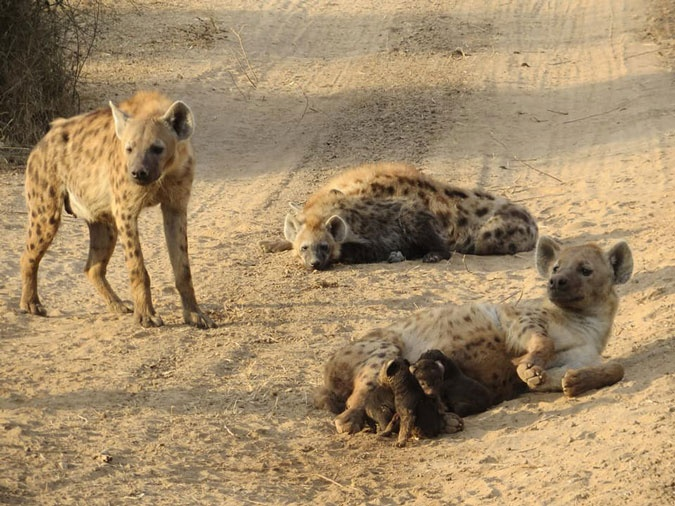hyna: (300, 231, 638, 438), (15, 87, 221, 333), (257, 156, 544, 273)
